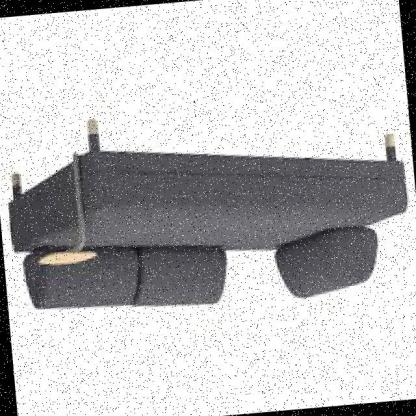Sofa: (1, 96, 415, 341)
